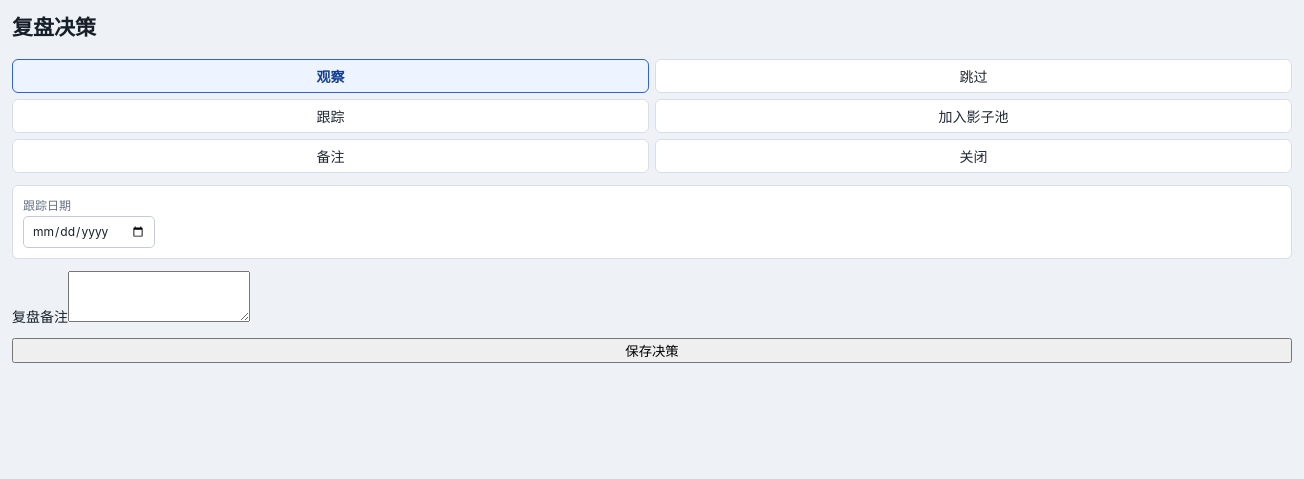
OperatorDecisionPanel › shows missing snapshot warnings without treating the save as failed
Click the button "备注" at (330, 156), box [12,139,649,173]
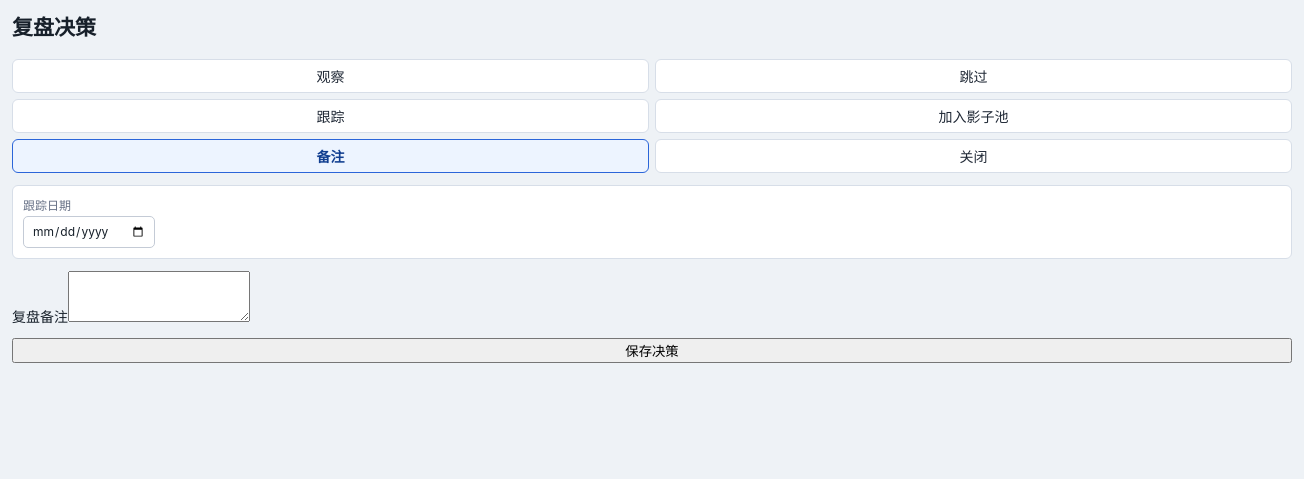
Click the button with aria-label "Save decision" at (652, 350), box [12,338,1292,363]
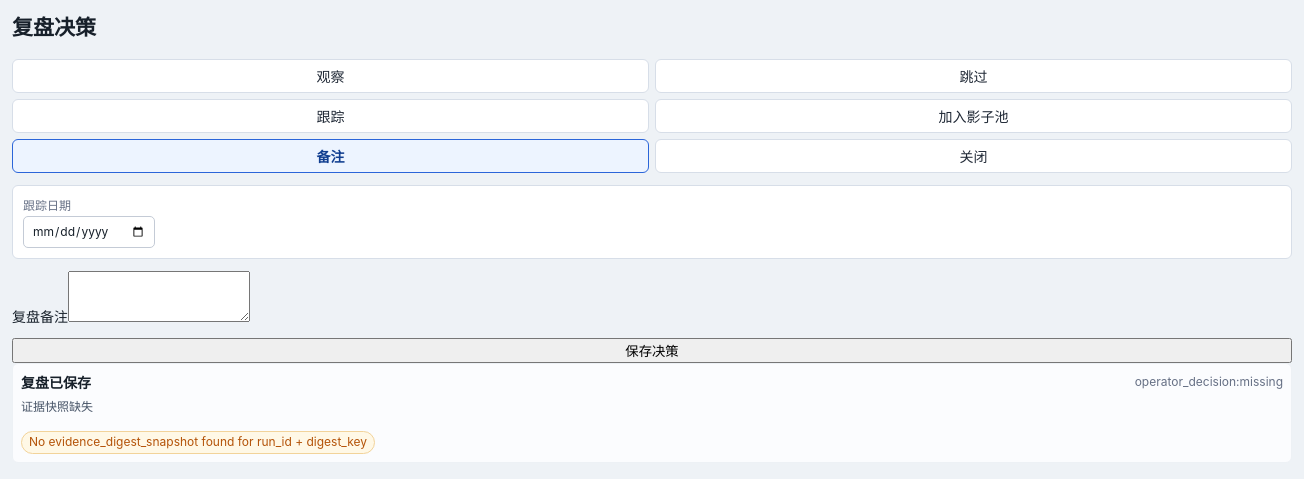
Result: the text "复盘已保存" is shown at [21,372,91,392]
Result: the text "证据快照缺失" is shown at [21,399,93,414]
Result: the text "No evidence_digest_snapshot found for run_id + digest_key" is shown at [21,431,375,454]
